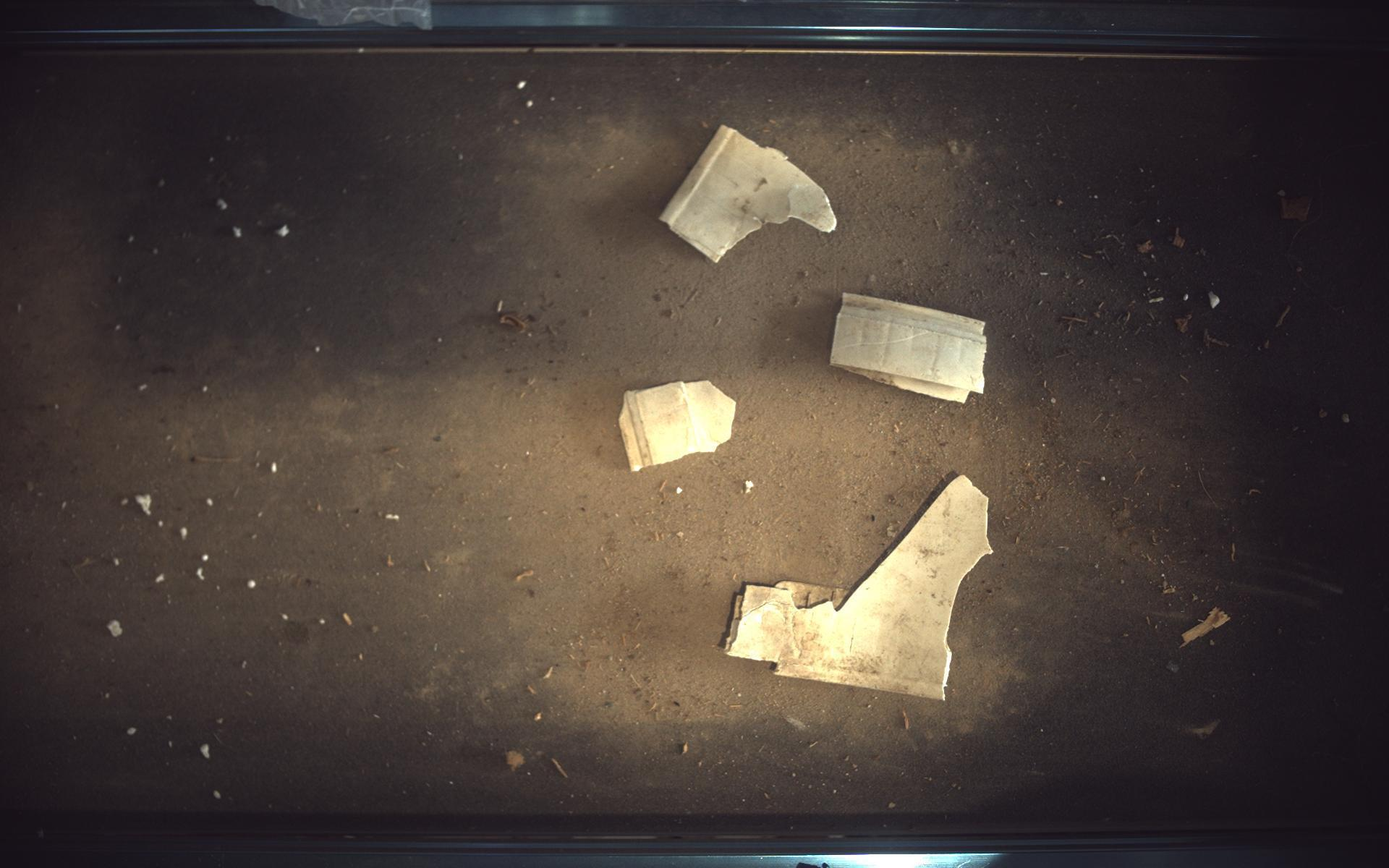plastic: (726, 475, 994, 701), (660, 124, 838, 261), (832, 294, 989, 403), (619, 380, 736, 472)
